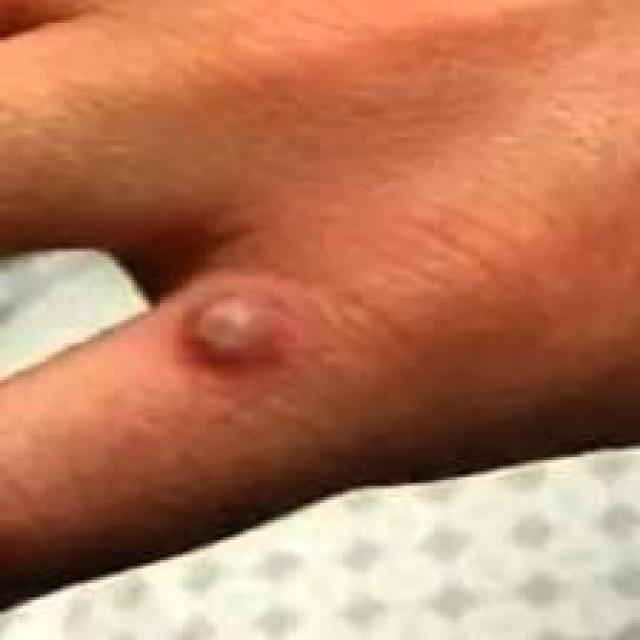monkeypox: (31, 50, 347, 528)
